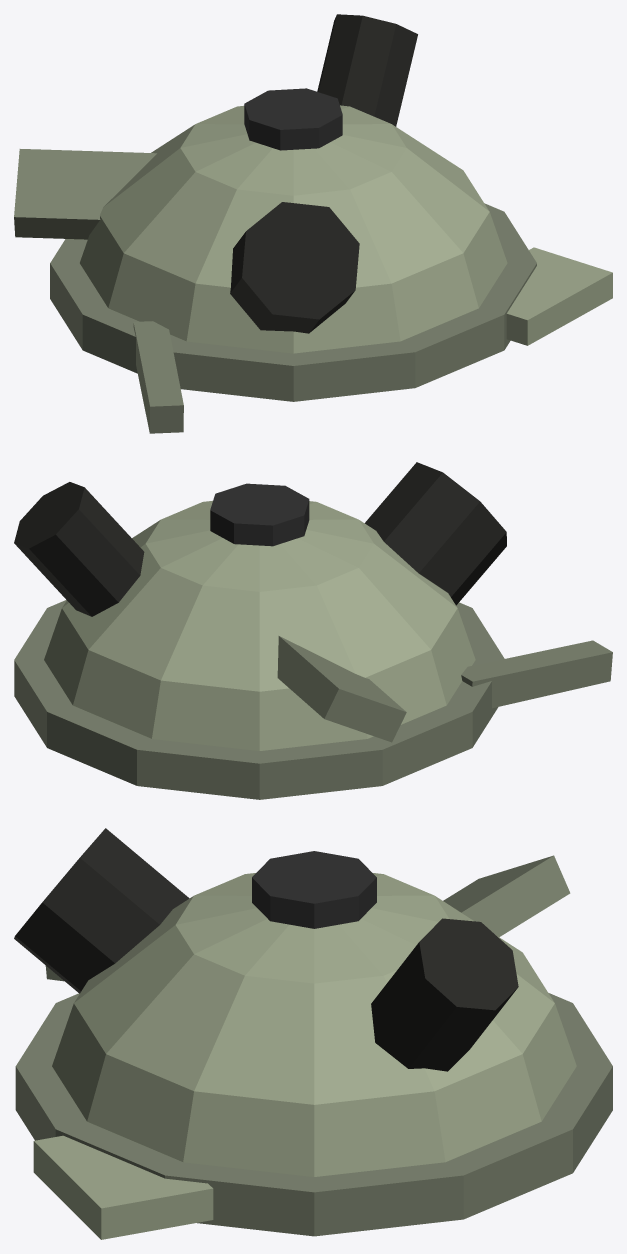
File: ancient_tunneler_husk_2.obj
The picture shows the model from 3 angles, top to bottom: view 1: azimuth 30°, elevation 25°; view 2: azimuth 150°, elevation 25°; view 3: azimuth 270°, elevation 25°; orthographic projection. The views are drawn at different scales.
Visible parts, largest first — view 1: ancient_tunneler_husk_2; view 2: ancient_tunneler_husk_2; view 3: ancient_tunneler_husk_2.
Boxes of the visible parts, x1,y1,x2,y2 form: ancient_tunneler_husk_2: (14, 14, 612, 433); ancient_tunneler_husk_2: (14, 462, 612, 799); ancient_tunneler_husk_2: (14, 828, 612, 1239).
Size of the model in its own units: 1.96 by 0.8403 by 1.73.
